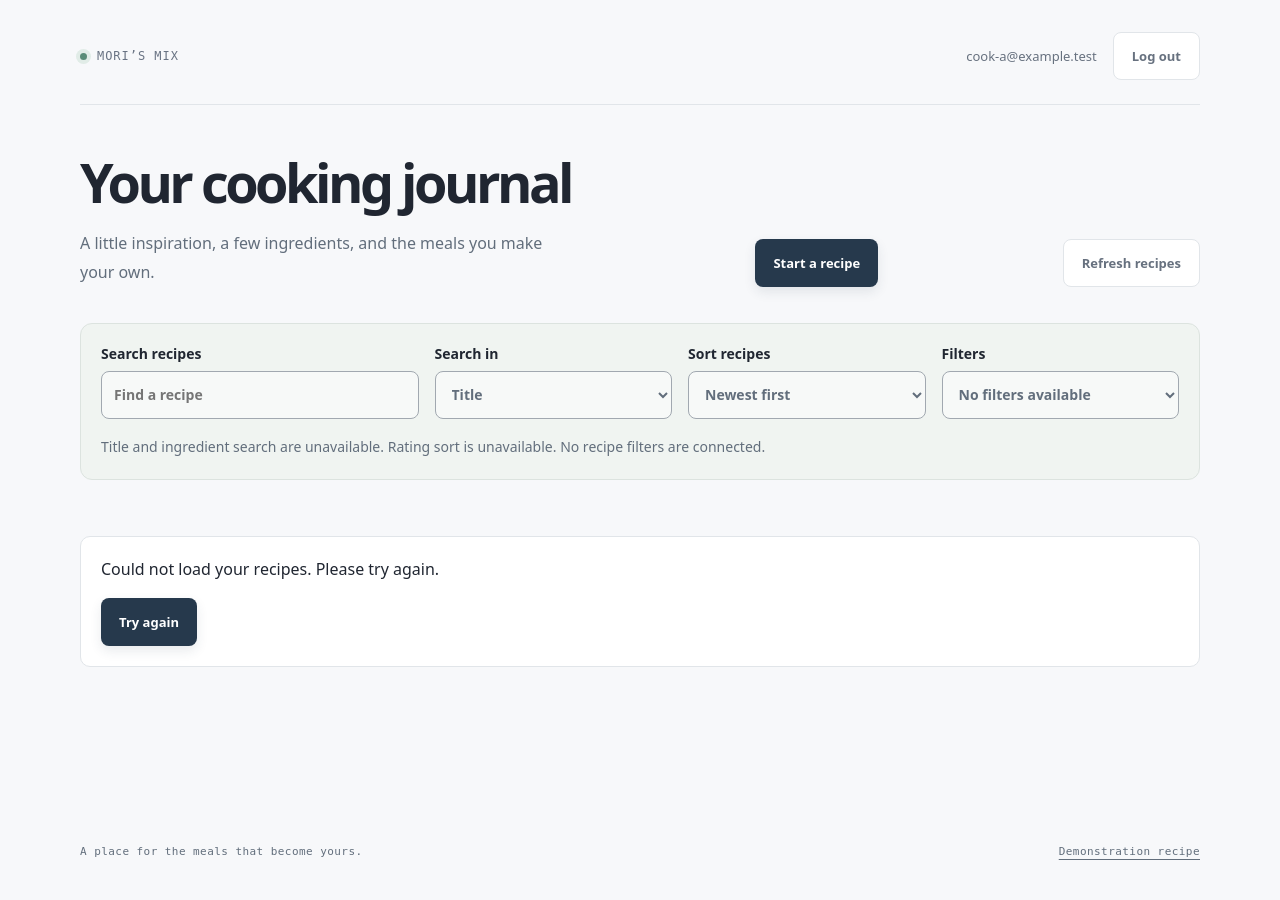
Test case: shows safe errors and recovers through manual retry
Expected: the message shows "Could not load your recipes", [101,558,439,580]
Click the button "Try again".
click(149, 622)  # box [101,598,197,646]
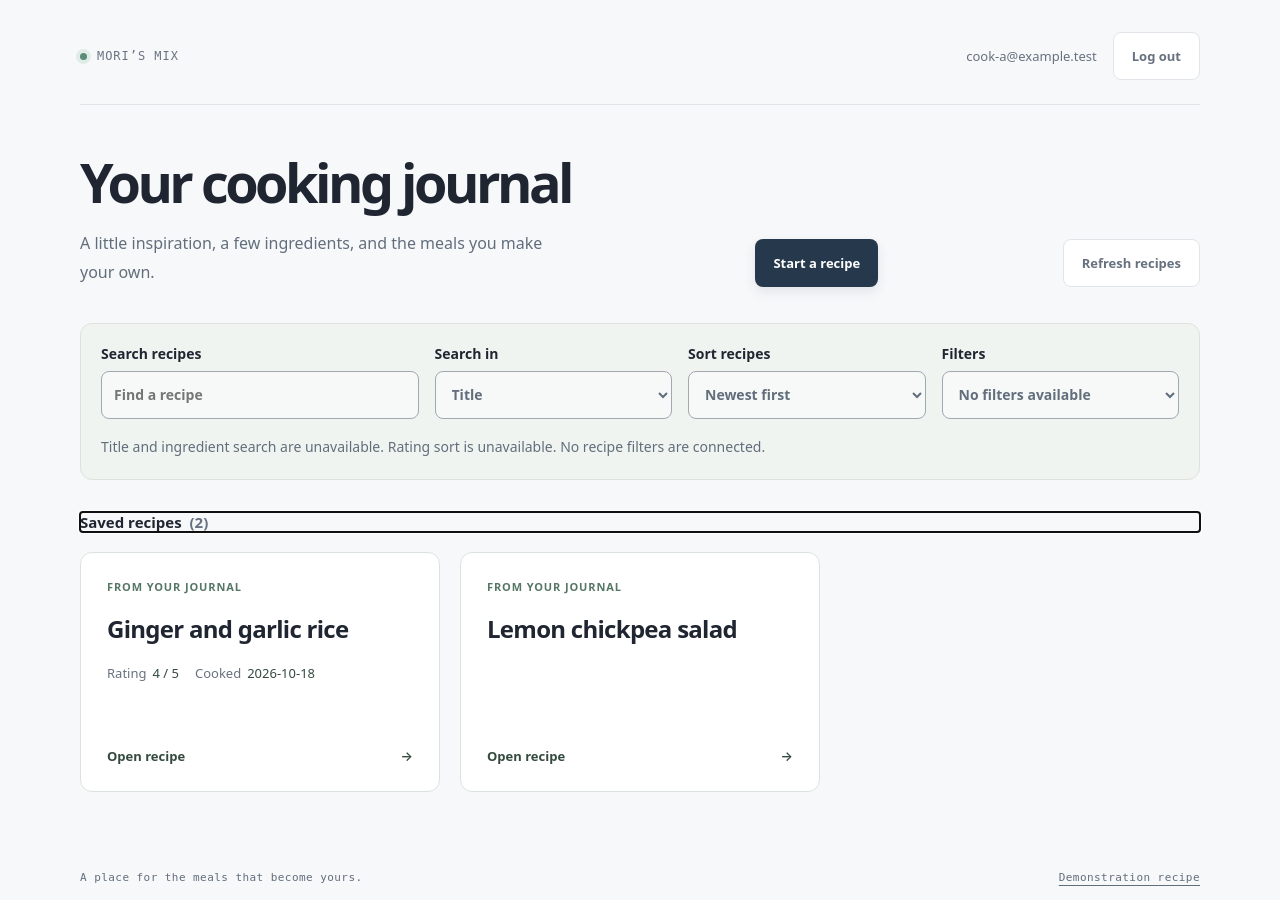
Result: the heading "Ginger and garlic rice" is shown at [107,612,348,645]
